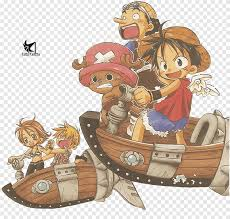chopper: (71, 42, 144, 94)
luffy: (140, 27, 211, 81)
